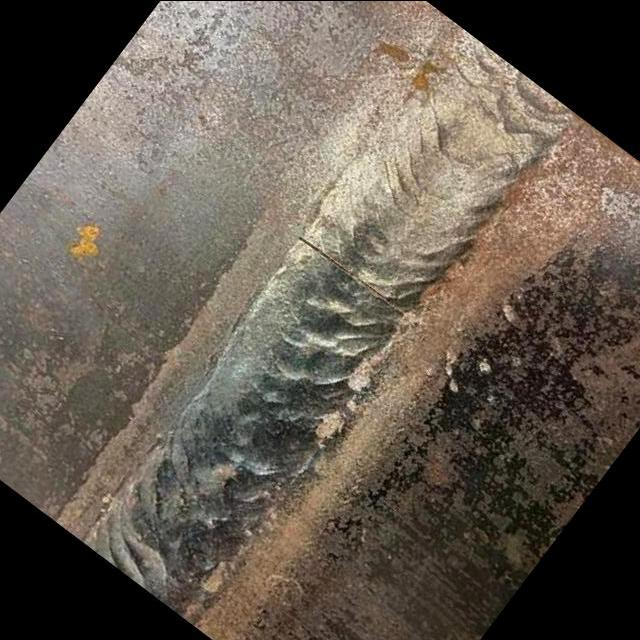defect: (287, 229, 404, 315)
